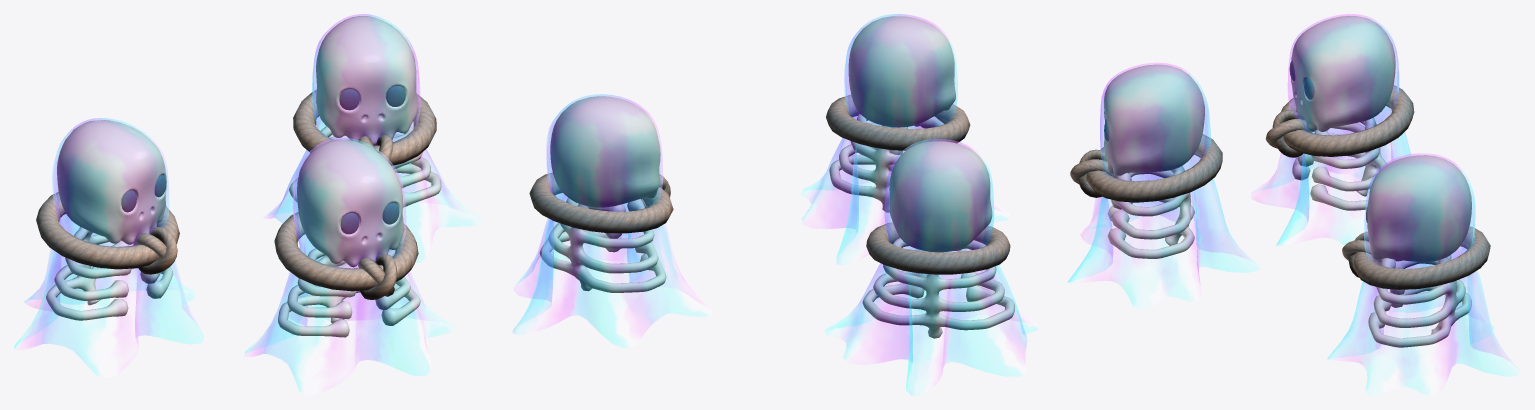
File: teru_teru_bozu.glb
3 views of the same model, side by side, from view 1: azimuth 30°, elevation 25°; view 2: azimuth 150°, elevation 25°; view 3: azimuth 270°, elevation 25° (orthographic). The views are drawn at different scales.
Parts seen in each view (by area): view 1: TeruTeruBozu_0, TeruTeruBozu.001_1, TeruTeruBozu.002_2; view 2: TeruTeruBozu.001_1, TeruTeruBozu.002_2, TeruTeruBozu_0; view 3: TeruTeruBozu_0, TeruTeruBozu.002_2, TeruTeruBozu.001_1.
Part boxes in pixels (left/top/right/bottom): TeruTeruBozu_0: left=243, top=137, right=455, bottom=395; TeruTeruBozu.001_1: left=14, top=118, right=203, bottom=377; TeruTeruBozu.002_2: left=263, top=14, right=483, bottom=262; TeruTeruBozu.001_1: left=824, top=139, right=1038, bottom=395; TeruTeruBozu.002_2: left=512, top=94, right=712, bottom=347; TeruTeruBozu_0: left=800, top=14, right=1009, bottom=264; TeruTeruBozu_0: left=1067, top=62, right=1258, bottom=310; TeruTeruBozu.002_2: left=1327, top=153, right=1519, bottom=395; TeruTeruBozu.001_1: left=1251, top=14, right=1414, bottom=245.
Bounding box in the file's own units: 4.8 × 2.15 × 4.08.
Materials: 1 (1 with a texture image).
